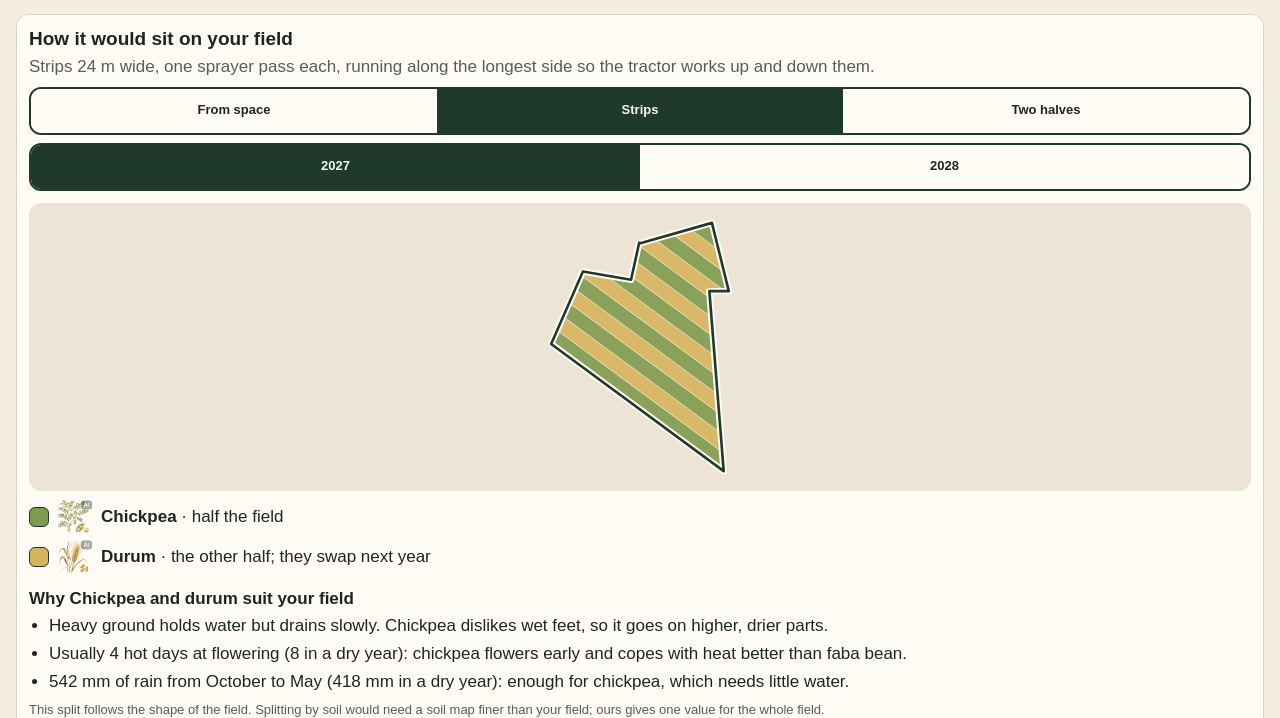
StripMap › shows the DEM notice under the map once the zones use high and low ground, and not on strips
Click the radio button with test id "layout-space": point(234, 110) [31,88,437,132]
(page scrolled)
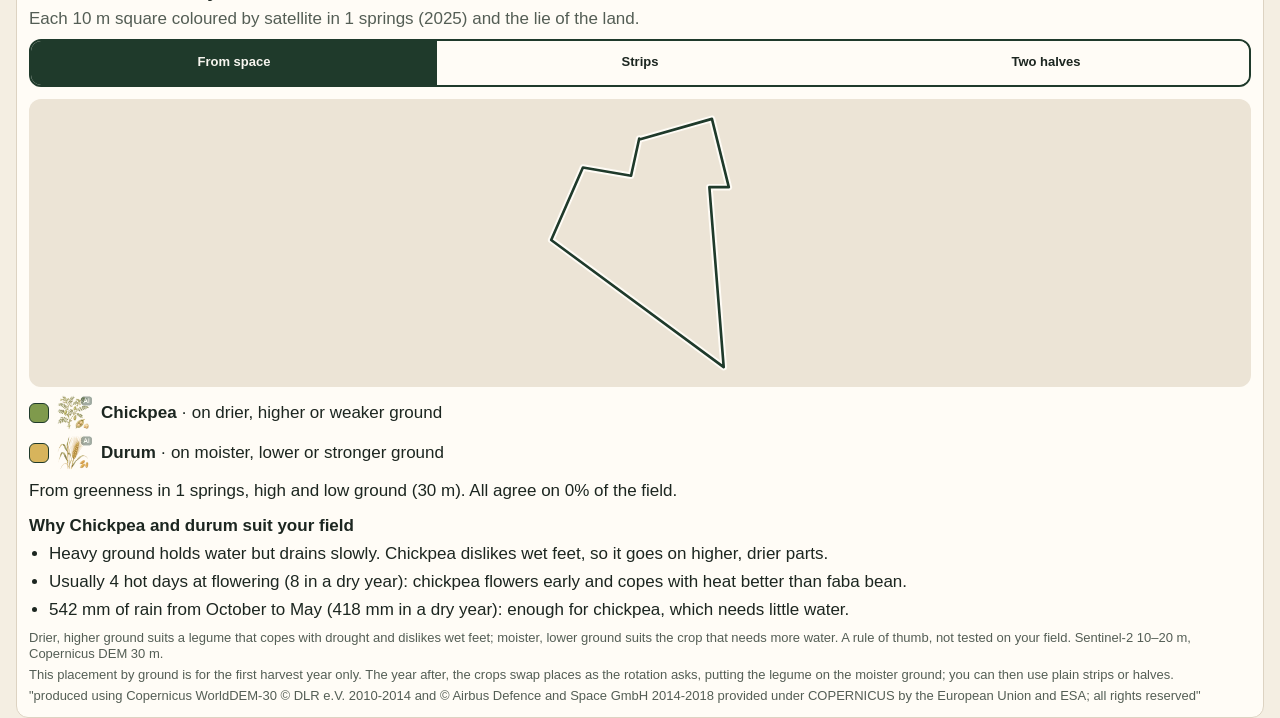
Expected: the text with test id "dem-notice" shows "\"produced using Copernicus WorldDEM-30 © DLR e.V. 2010-2014 and © Airbus Defence and Space GmbH 2014-2018 provided under COPERNICUS by the European Union and ES", [29,688,1201,703]
